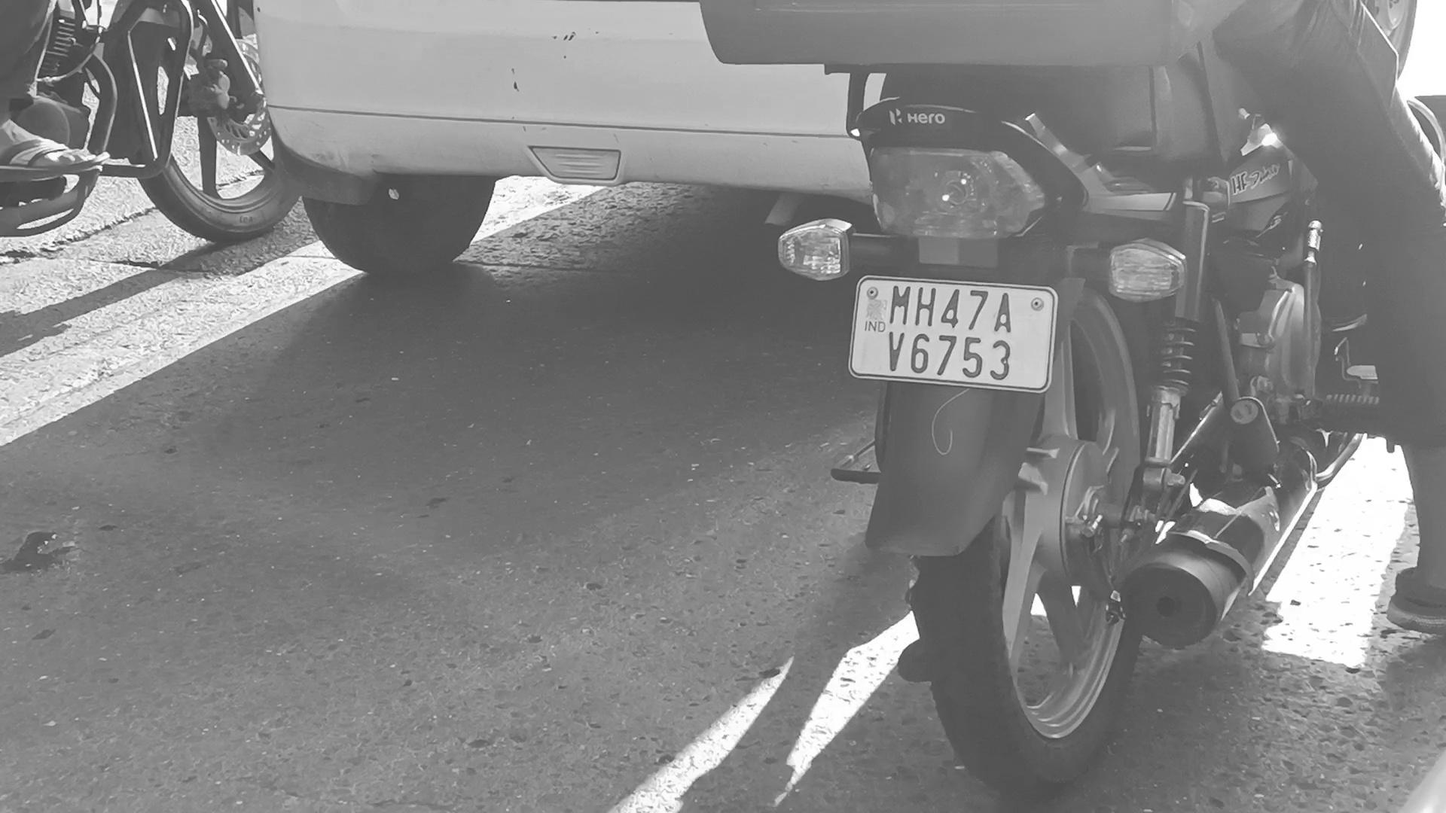number_plate: (863, 285, 1051, 385)
